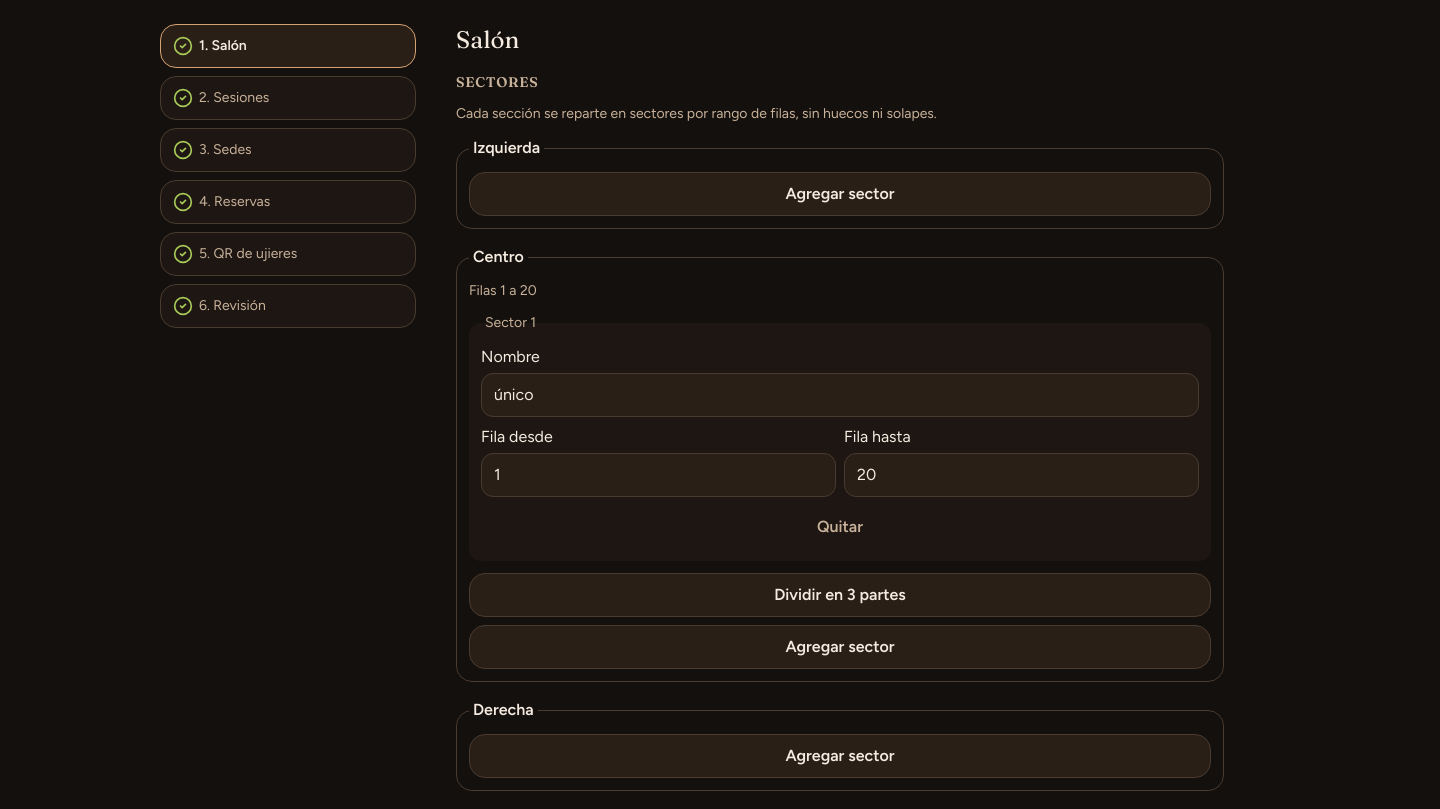
Test: SalonPaso: sectores › vista previa de sectores (sin guardar) › refleja el formulario: dividir y editar desde/hasta actualizan los lugares sin guardar
Click the button "Dividir en 3 partes" at point(840, 595), box top-left (469, 573), bottom-right (1211, 617)
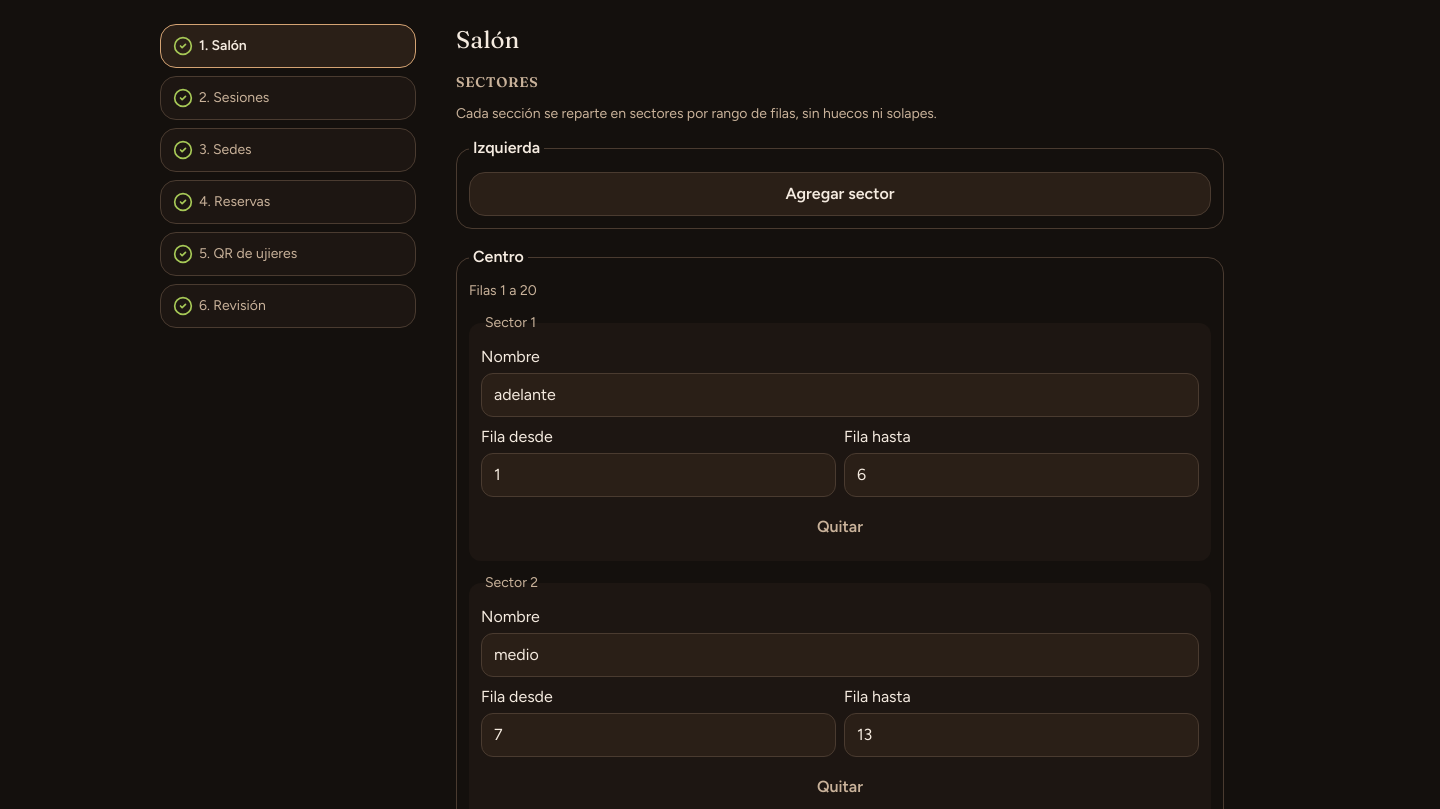
Replace the text in the 1st number field labelled "Fila hasta" with "5" at point(1022, 475), box top-left (844, 453), bottom-right (1199, 497)
(page scrolled)
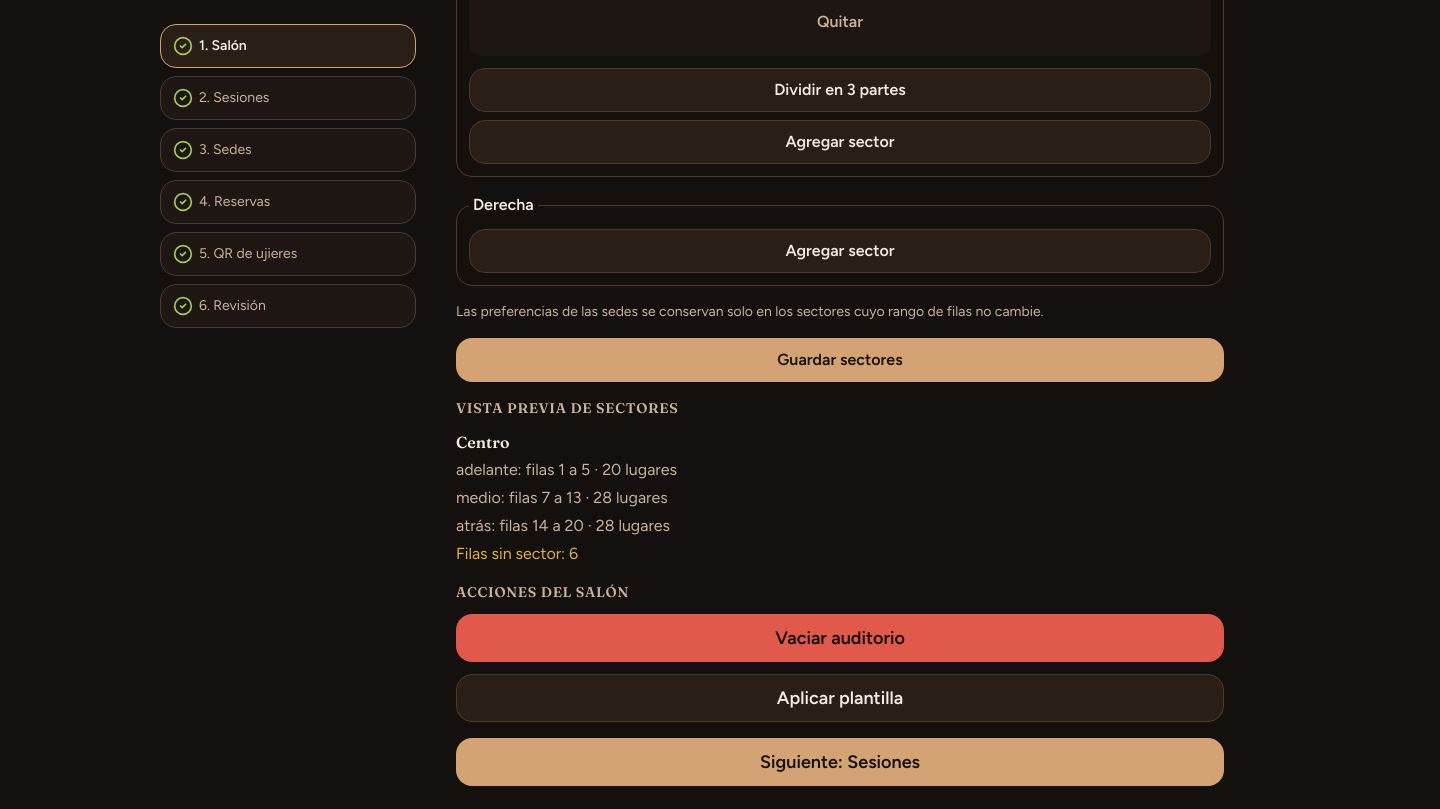
Check: the list item "adelante: filas 1 a 5 · 20 lugares" is shown, box top-left (456, 460), bottom-right (677, 479)
